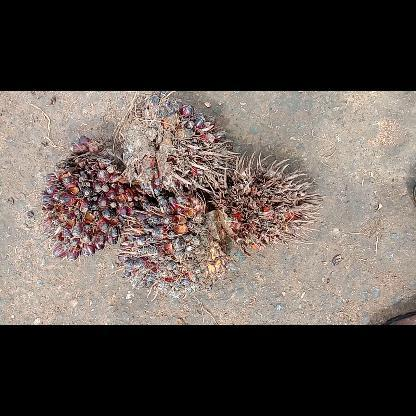TBS abnormal: (42, 136, 148, 260), (116, 92, 238, 192), (117, 194, 229, 296), (204, 150, 320, 244)
